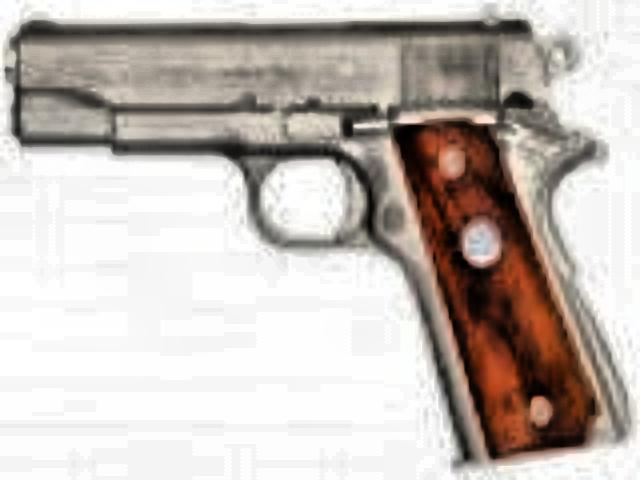pistol: (0, 4, 624, 460)
